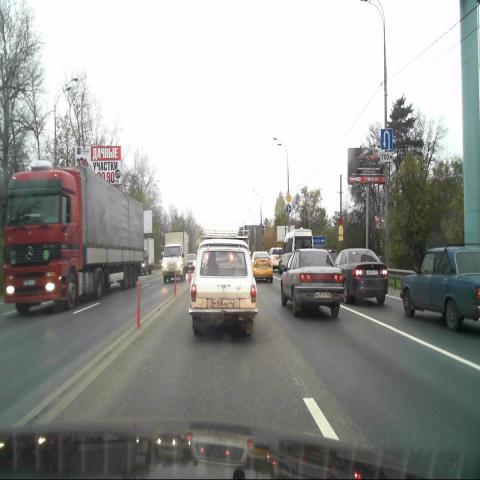2_1: (284, 193, 292, 204)
6_3_1: (380, 129, 392, 150)
